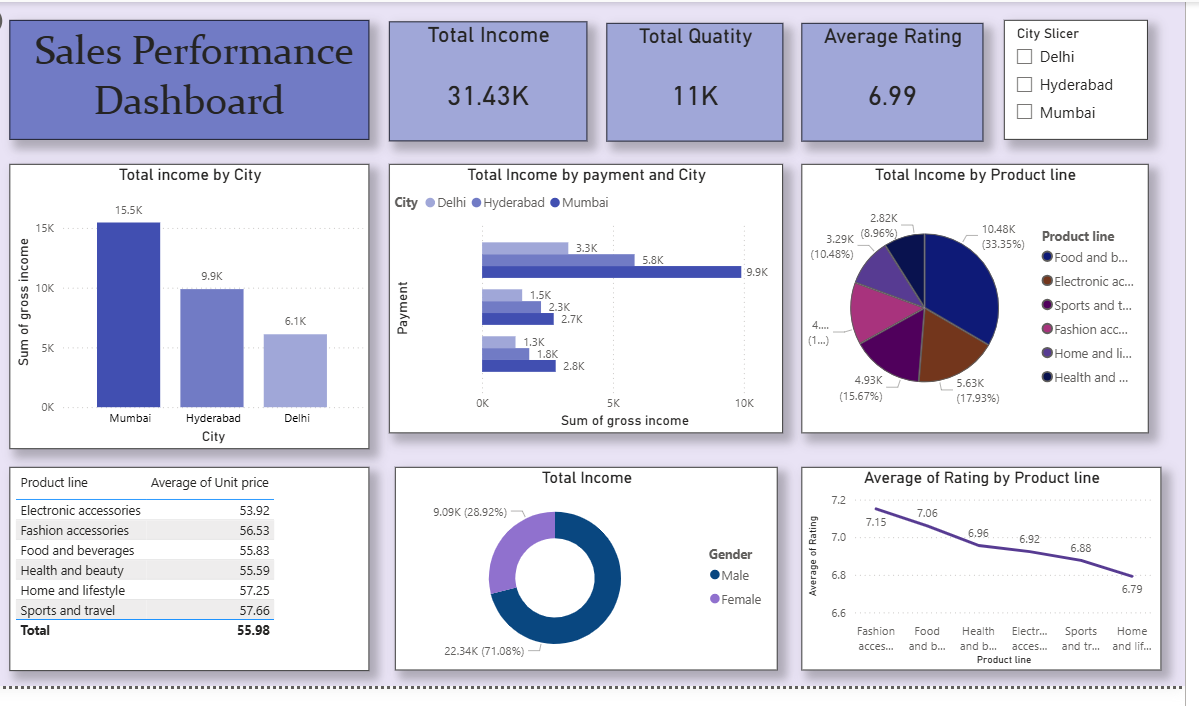

Layout of this report page (visuals, bound fields, positions):
{"tool":"powerbi","page":{"name":"Report","canvas":[1280,720],"ordinal":0},"visuals":[{"type":"textbox","box":[42.4,19.7,378.6,125.7],"z":0},{"type":"card","title":"Total Income","fields":{"Values":["Sum(Realmart Sales Dataset.gross income)"]},"box":[441.5,20.1,208.7,125.8],"z":1000},{"type":"card","title":"Total Quatity","fields":{"Values":["Sum(Realmart Sales Dataset.Quantity)"]},"box":[664.7,21.2,192.3,125.7],"z":2000},{"type":"card","title":"Average Rating","fields":{"Values":["Avg(Realmart Sales Dataset.Rating)"]},"box":[875.2,22.7,190.8,124.2],"z":3000},{"type":"clusteredBarChart","title":"Total Income by payment and City","fields":{"Y":["Sum(Realmart Sales Dataset.gross income)"],"Category":["Realmart Sales Dataset.Payment"],"Series":["Realmart Sales Dataset.City"]},"box":[442.1,169.6,414.9,301.3],"z":4000},{"type":"lineChart","fields":{"Y":["Avg(Realmart Sales Dataset.Rating)"],"Category":["Realmart Sales Dataset.Product line"]},"box":[876.4,489.7,378.7,214.1],"z":5000},{"type":"pieChart","title":"Total Income by Product line","fields":{"Category":["Realmart Sales Dataset.Product line"],"Y":["Sum(Realmart Sales Dataset.gross income)"]},"box":[876.7,169.6,378.6,301.3],"z":6000},{"type":"donutChart","title":"Total Income","fields":{"Category":["Realmart Sales Dataset.Gender"],"Y":["Sum(Realmart Sales Dataset.gross income)"]},"box":[442.1,489.1,414.9,215],"z":7000},{"type":"actionButton","box":[0,0,100,40],"z":8000},{"type":"slicer","title":"City Slicer","fields":{"Values":["Realmart Sales Dataset.City"]},"box":[1090.2,22.7,165,124.2],"z":9000},{"type":"columnChart","title":"Total income by City","fields":{"Category":["Realmart Sales Dataset.City"],"Y":["Sum(Realmart Sales Dataset.gross income)"]},"box":[42.6,170.5,379,300],"z":10000},{"type":"tableEx","title":"Total Income by City and Branch","fields":{"Values":["Realmart Sales Dataset.Product line","Avg(Realmart Sales Dataset.Unit price)"]},"box":[42.4,489.1,378.6,215],"z":12000}]}

Visuals, with their boxes in screenshot pixels (x1, y1, x2, y2):
textbox: (3, 16, 366, 136)
"Total Income" card: (385, 16, 585, 137)
"Total Quatity" card: (599, 17, 783, 138)
"Average Rating" card: (801, 19, 983, 138)
"Total Income by payment and City" clusteredBarChart: (386, 159, 783, 448)
lineChart - Avg(Realmart Sales Dataset.Rating) x Realmart Sales Dataset.Product line: (802, 466, 1165, 671)
"Total Income by Product line" pieChart: (802, 159, 1165, 448)
"Total Income" donutChart: (386, 465, 783, 671)
actionButton: (0, 0, 58, 35)
"City Slicer" slicer: (1007, 19, 1165, 138)
"Total income by City" columnChart: (3, 160, 366, 447)
"Total Income by City and Branch" tableEx: (3, 465, 366, 671)
